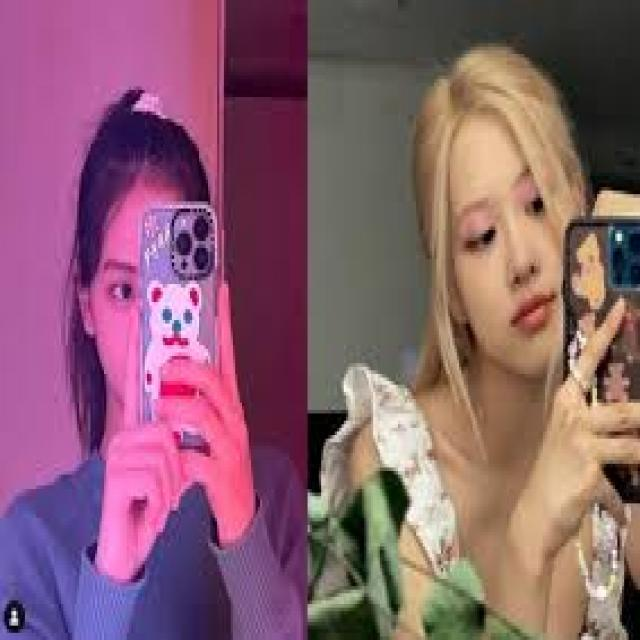Phone: (563, 214, 640, 490), (137, 202, 220, 458)
